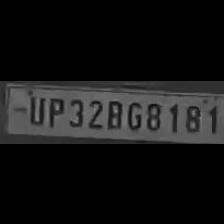1: (204, 100, 222, 134), (164, 100, 181, 132)
2: (84, 95, 104, 129)
3: (64, 95, 84, 127)
8: (181, 100, 201, 134), (142, 97, 162, 130)
B: (104, 96, 122, 128)
G: (124, 96, 142, 130)
P: (44, 94, 64, 126)
U: (24, 92, 44, 124)
